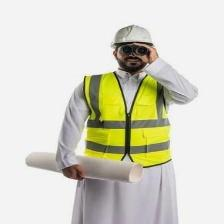Person: (56, 25, 199, 224)
helmet: (107, 25, 156, 45)
vest: (81, 71, 173, 168)
